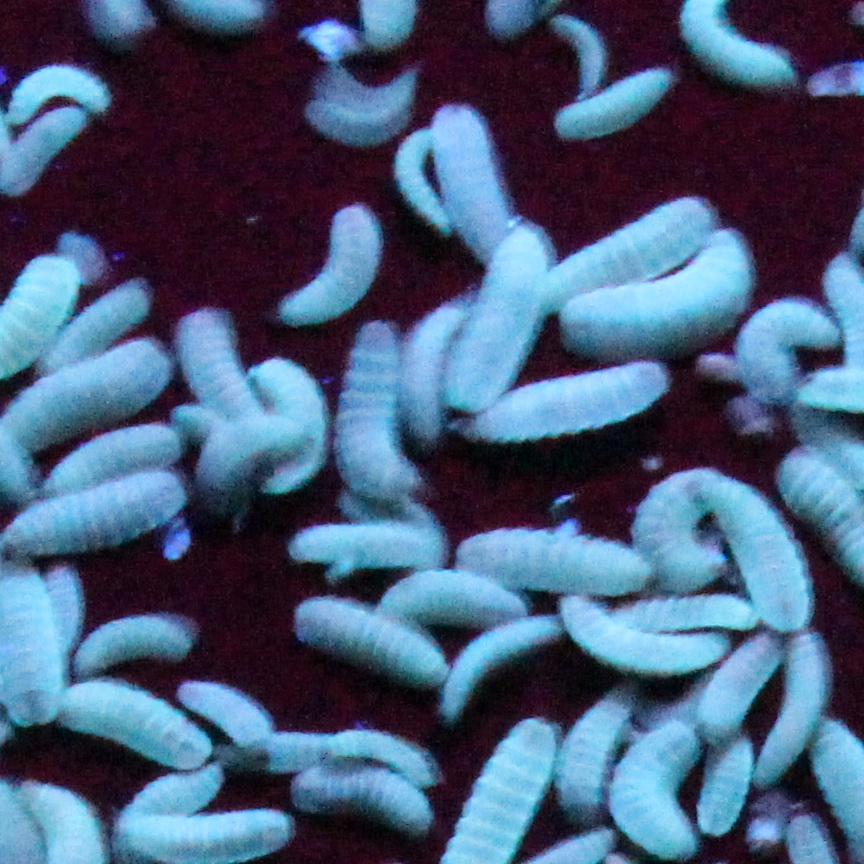larve: (560, 224, 752, 352), (326, 318, 436, 504), (690, 468, 814, 632), (538, 188, 718, 296), (446, 224, 540, 422), (11, 340, 164, 452), (5, 466, 195, 553), (490, 356, 680, 438), (428, 612, 566, 722), (608, 714, 706, 862), (57, 678, 217, 768), (280, 206, 386, 336), (290, 598, 454, 682), (169, 304, 267, 444), (564, 602, 734, 678), (758, 626, 832, 800), (460, 526, 648, 594), (632, 474, 738, 590), (290, 746, 434, 830), (440, 110, 518, 264), (556, 676, 632, 830), (248, 354, 332, 490), (187, 416, 320, 496), (740, 298, 840, 398), (678, 2, 802, 82), (70, 616, 197, 686), (554, 66, 670, 140), (284, 526, 440, 580), (326, 722, 442, 794), (374, 572, 534, 624), (190, 676, 284, 762), (386, 124, 456, 236), (49, 286, 142, 369), (2, 107, 85, 189), (622, 586, 766, 632), (4, 71, 119, 126), (554, 18, 618, 104), (262, 722, 362, 772), (34, 566, 85, 661)
